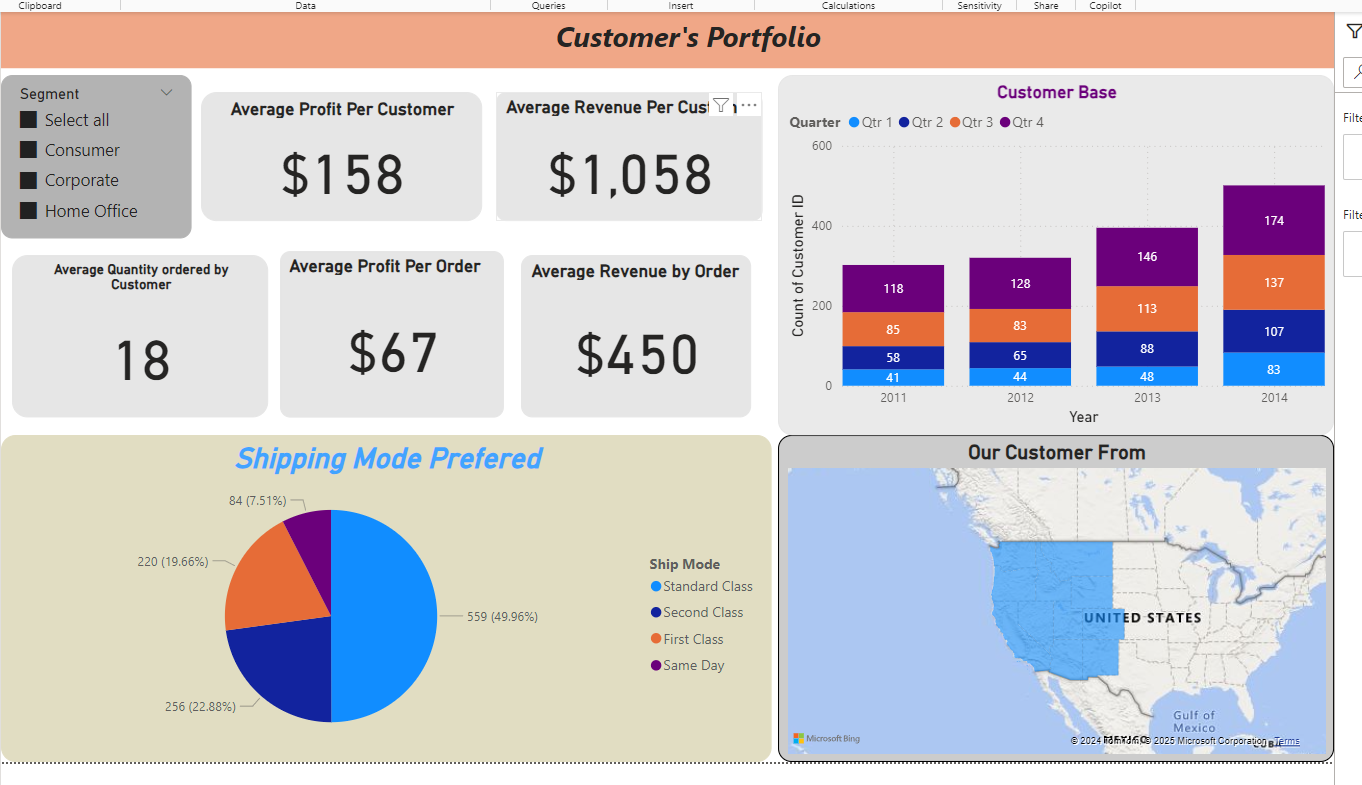

The page's visual inventory and layout, read from the dashboard file:
{"tool":"powerbi","page":{"name":"Customer Portfolio","canvas":[1280,720],"ordinal":2},"visuals":[{"type":"textbox","box":[0,0,1280,53.7],"z":0},{"type":"pieChart","title":"Shipping Mode Prefered","fields":{"Category":["Walmart.Ship Mode"],"Y":["Count(Walmart.Customer ID)"]},"box":[0,406.2,739.8,313.7],"z":1000},{"type":"slicer","fields":{"Values":["Walmart.Segment"]},"box":[0,60.5,183.2,157.3],"z":2000},{"type":"filledMap","title":"Our Customer From","fields":{"Category":["Walmart.State"]},"box":[745.9,406.2,534.1,313.7],"z":3000},{"type":"columnChart","title":"Customer Base","fields":{"Y":["Count(Walmart.Customer ID)"],"Category":["Walmart.Order Date.Variation.Date Hierarchy.Year"],"Series":["Walmart.Order Date.Variation.Date Hierarchy.Quarter"]},"box":[745.9,60.5,534.1,345.7],"z":4000},{"type":"card","title":"Average Revenue Per Customer","fields":{"Values":["Avg(Walmart (2).Sales_by_Customer)"]},"box":[475.4,76.9,255.8,123.6],"z":5000},{"type":"card","title":"Average Profit Per Customer","fields":{"Values":["Avg(Walmart (2).Profit_by_Customer)"]},"box":[191.9,76.9,269.7,123.6],"z":6000},{"type":"card","title":"Average Quantity ordered by Customer","fields":{"Values":["Avg(Walmart (2).Quantity_by_Customer)"]},"box":[10.4,233.4,246.3,156.4],"z":7000},{"type":"card","title":"Average Profit Per Order","fields":{"Values":["Avg(Walmart (3).Profit_Per_Order)"]},"box":[267.9,229.9,215.2,159.9],"z":8000},{"type":"card","title":"Average Revenue by Order","fields":{"Values":["Avg(Walmart (3).Revenue _Per_Order)"]},"box":[499.6,233.4,221.3,156.4],"z":9000}]}

Visuals, with their boxes on the page's 1280x720 design canvas (x1, y1, x2, y2). These are canvas units, not pixel positions in the 1362x785 screenshot, which may show the page scaled, cropped or inside an application window:
textbox: x1=0, y1=0, x2=1280, y2=54
"Shipping Mode Prefered" pieChart: x1=0, y1=406, x2=740, y2=720
slicer - Walmart.Segment: x1=0, y1=60, x2=183, y2=218
"Our Customer From" filledMap: x1=746, y1=406, x2=1280, y2=720
"Customer Base" columnChart: x1=746, y1=60, x2=1280, y2=406
"Average Revenue Per Customer" card: x1=475, y1=77, x2=731, y2=200
"Average Profit Per Customer" card: x1=192, y1=77, x2=462, y2=200
"Average Quantity ordered by Customer" card: x1=10, y1=233, x2=257, y2=390
"Average Profit Per Order" card: x1=268, y1=230, x2=483, y2=390
"Average Revenue by Order" card: x1=500, y1=233, x2=721, y2=390
